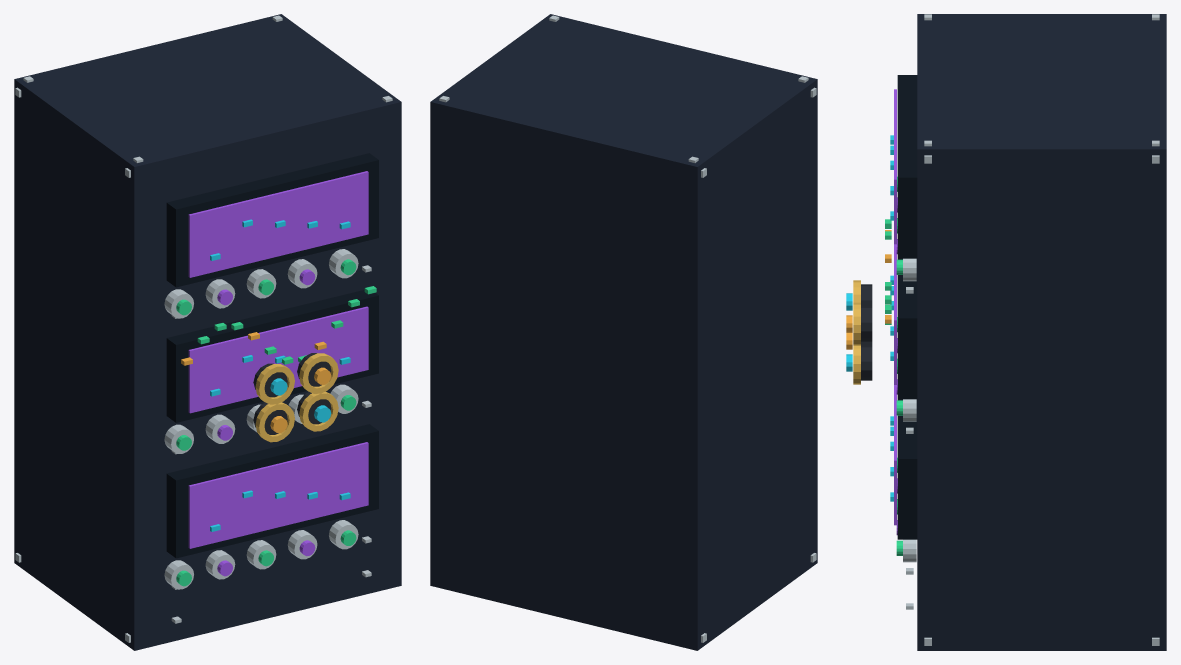
The model's file is 45_L82_ProtectedRFAmplifier.fbx.
3 renders of one model, left to right at view 1: azimuth 30°, elevation 25°; view 2: azimuth 150°, elevation 25°; view 3: azimuth 270°, elevation 25°, orthographic. The views are drawn at different scales.
Visible parts, largest first — view 1: ProtectedRFAmplifier; view 2: ProtectedRFAmplifier; view 3: ProtectedRFAmplifier.
Boxes of the visible parts, x1,y1,x2,y2 form: ProtectedRFAmplifier: (14,14,401,650); ProtectedRFAmplifier: (430,14,817,650); ProtectedRFAmplifier: (846,14,1166,650).
Bounding box in the file's own units: 106 × 182 × 104.
